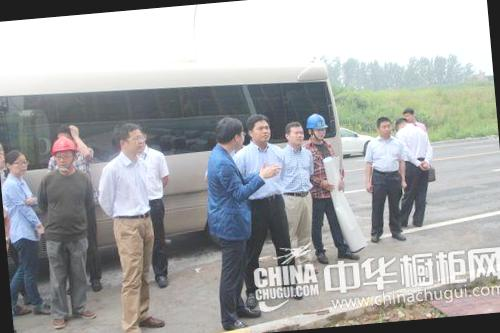no_helmet: (211, 112, 250, 155), (114, 122, 147, 156), (245, 112, 276, 145), (4, 146, 30, 178), (282, 119, 304, 147), (373, 113, 393, 139), (390, 115, 411, 138), (401, 104, 417, 123)
